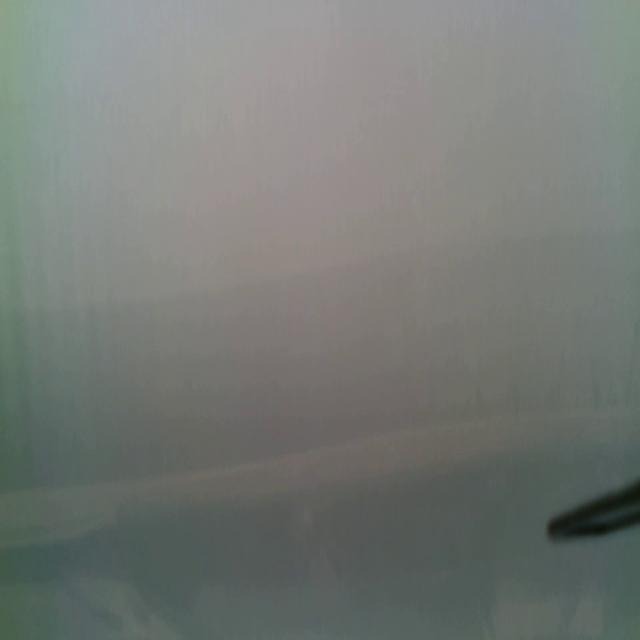color bleeding: (0, 228, 640, 488)
